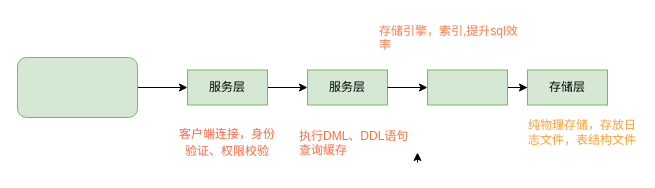
The diagram is 655 pixels wide and 188 high, and some of its shapes have lost their labels. The shapes that lost their labels are listed below. From the top down, each one's centre as x and y in pixels, then its label:
At (77,87): "MySQL体系结构".
At (467,87): "引擎层".
